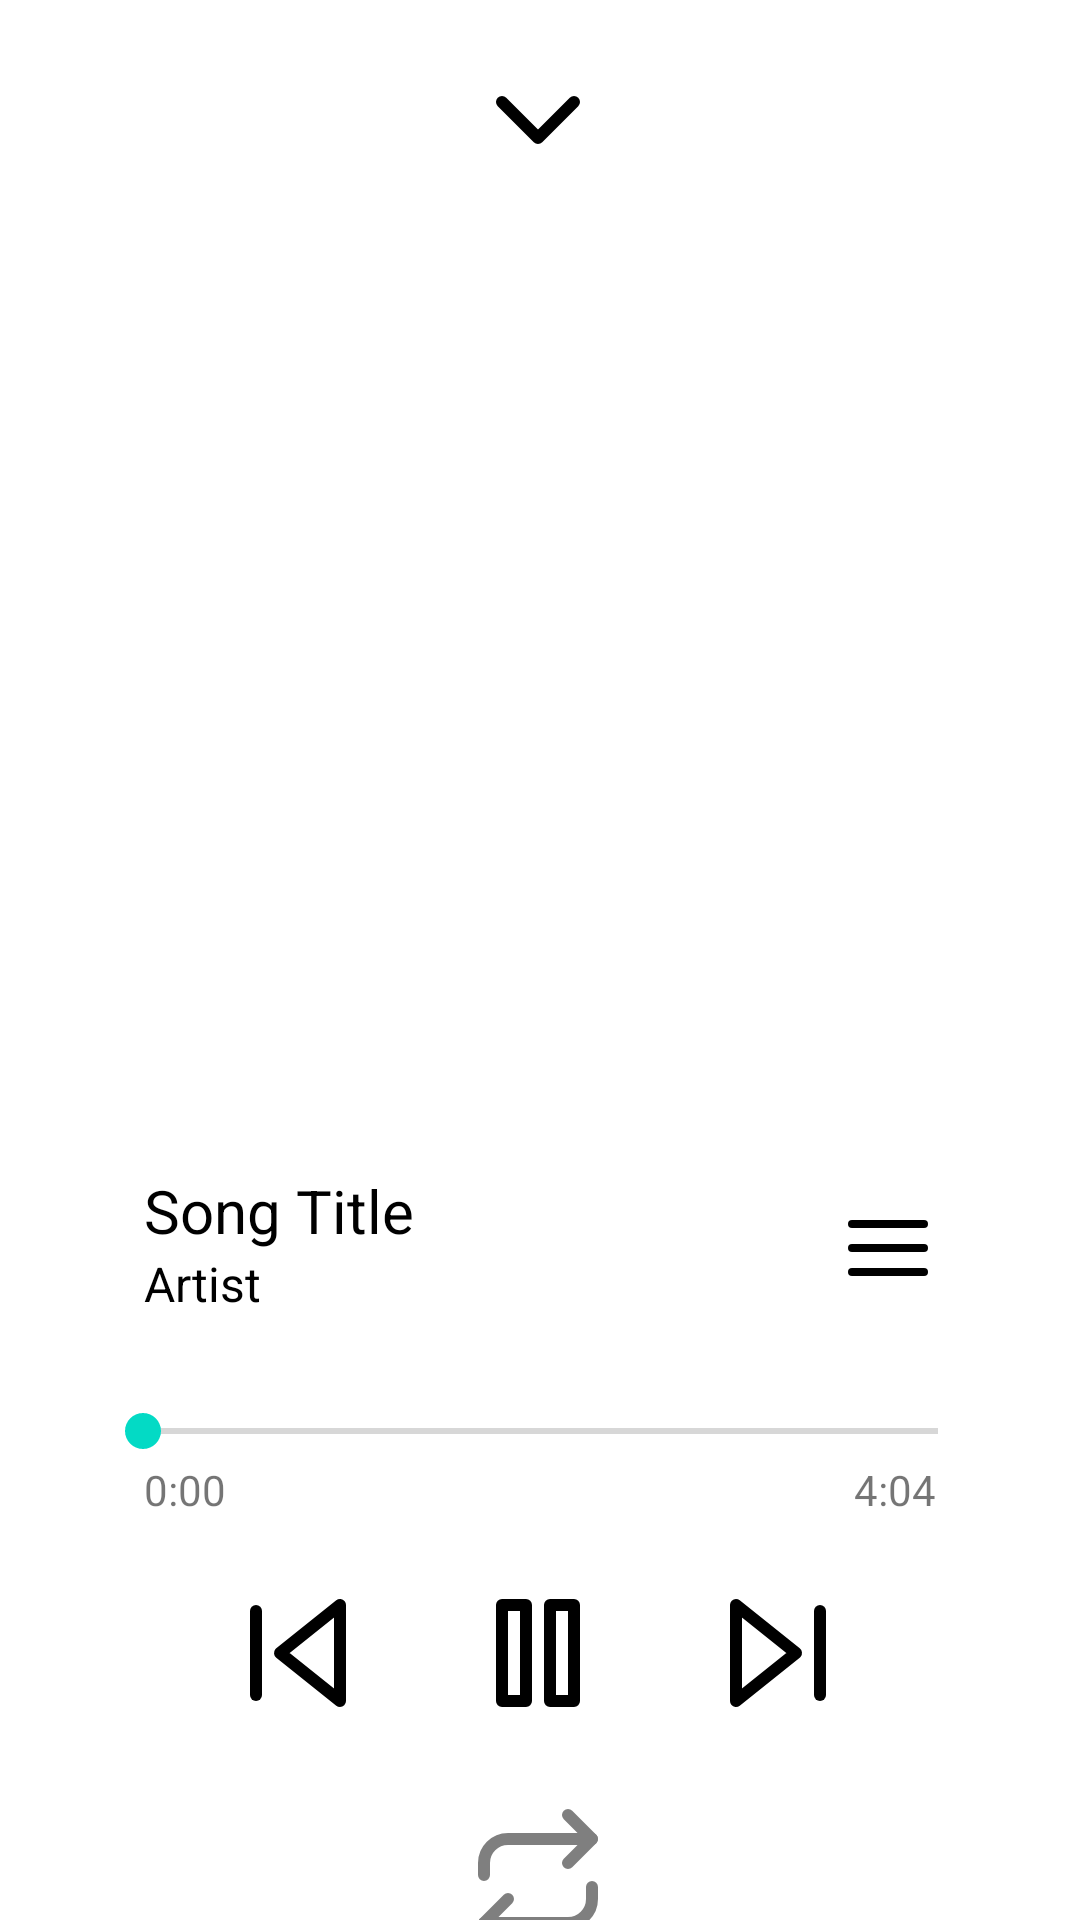

Screen size 1080w x 1920h. Icon name, then its box in pixels as (x1, y1, x2, y2):
chevron down: (496, 96, 580, 144)
menu: (848, 1220, 928, 1276)
pause: (496, 1599, 580, 1707)
skip back: (250, 1599, 346, 1707)
skip forward: (730, 1599, 826, 1707)
